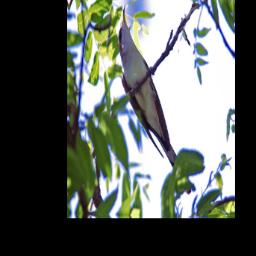Cuckoo: (116, 4, 193, 195)
